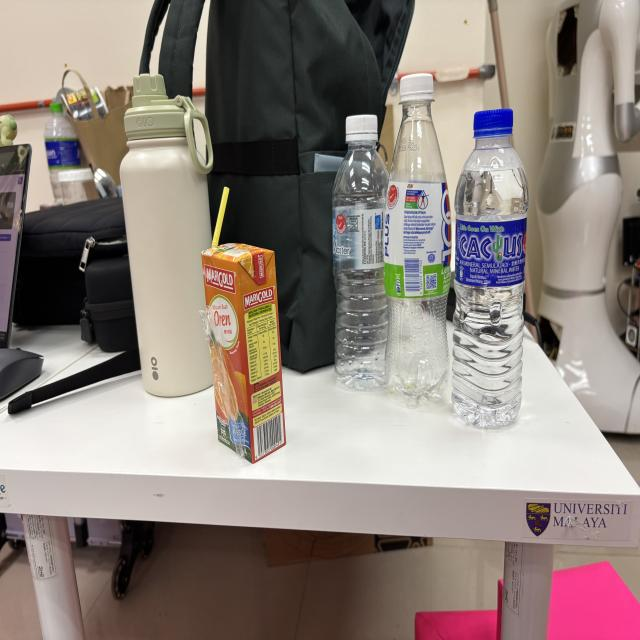drink_carton: (197, 175, 295, 473)
plastic_bottle: (448, 94, 536, 445), (374, 66, 457, 420), (326, 103, 404, 400)
